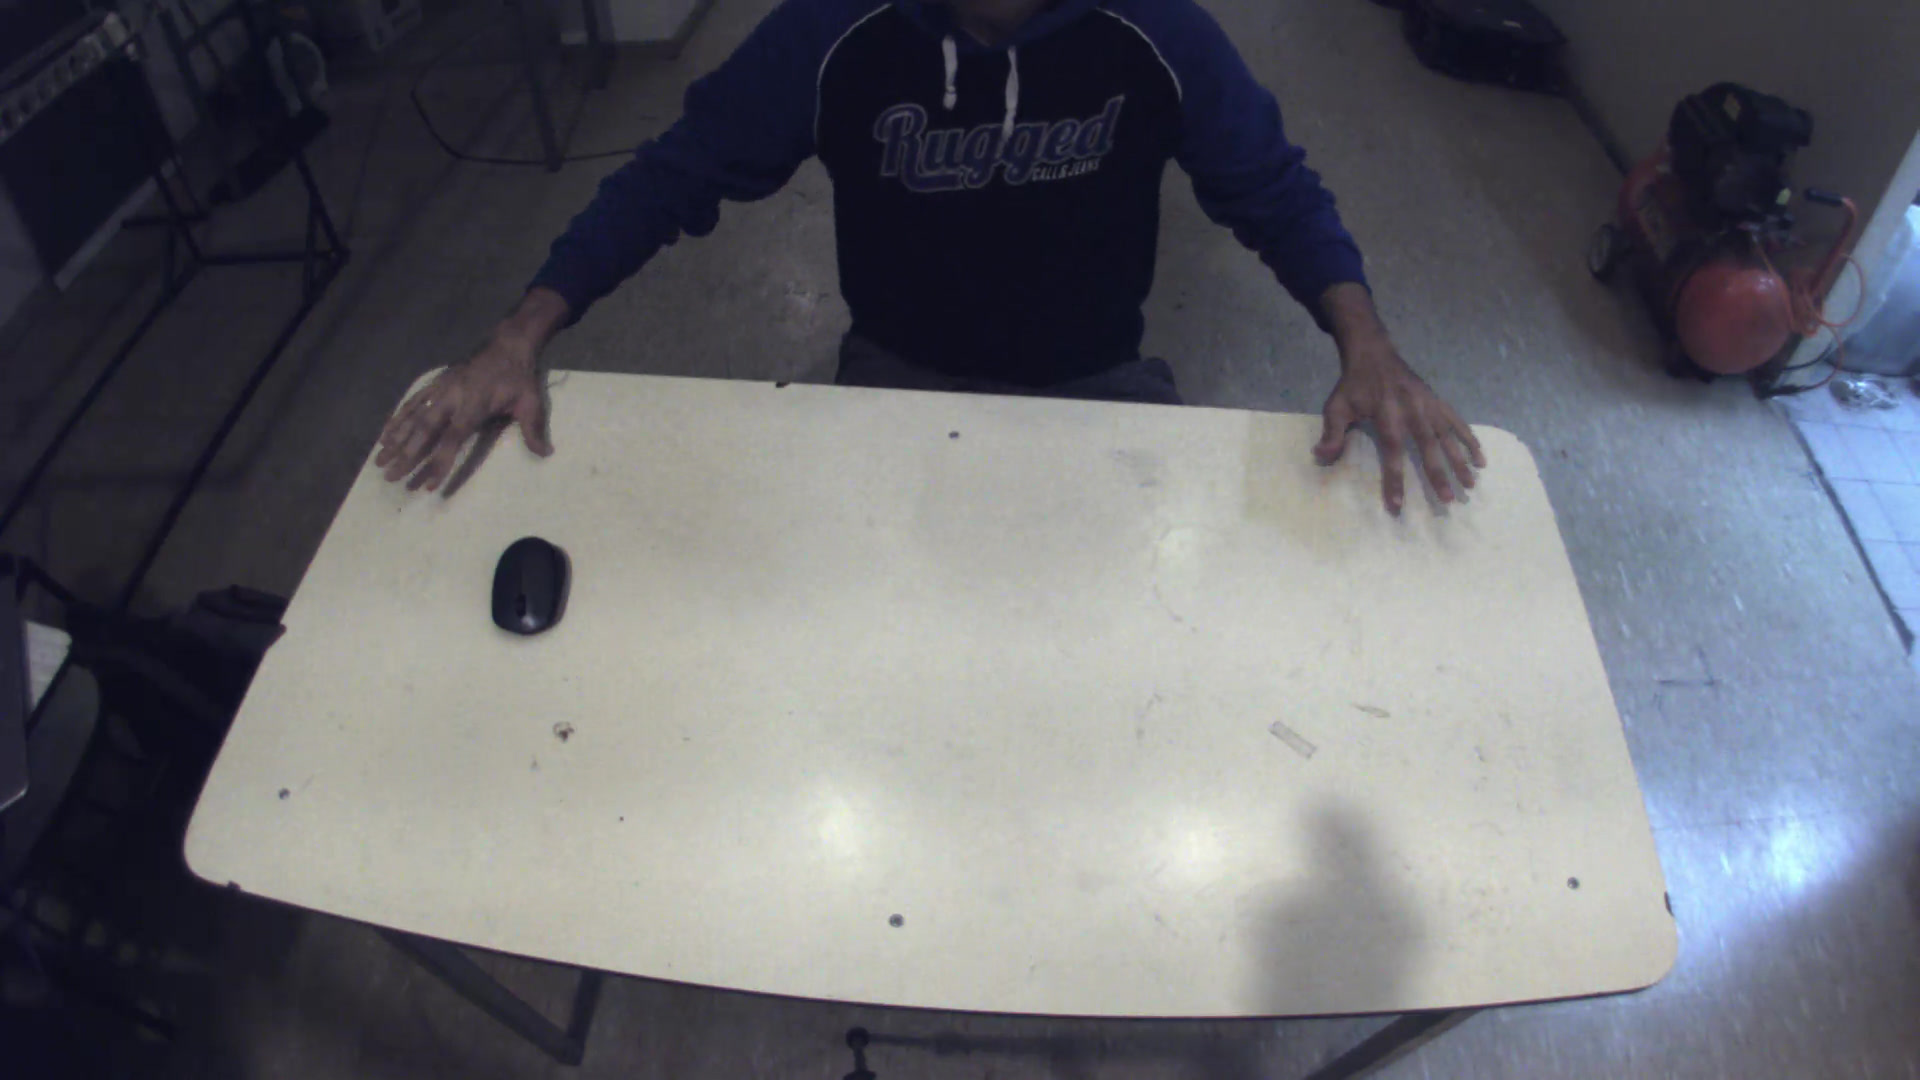hand: (353, 314, 555, 506), (1305, 340, 1498, 526)
